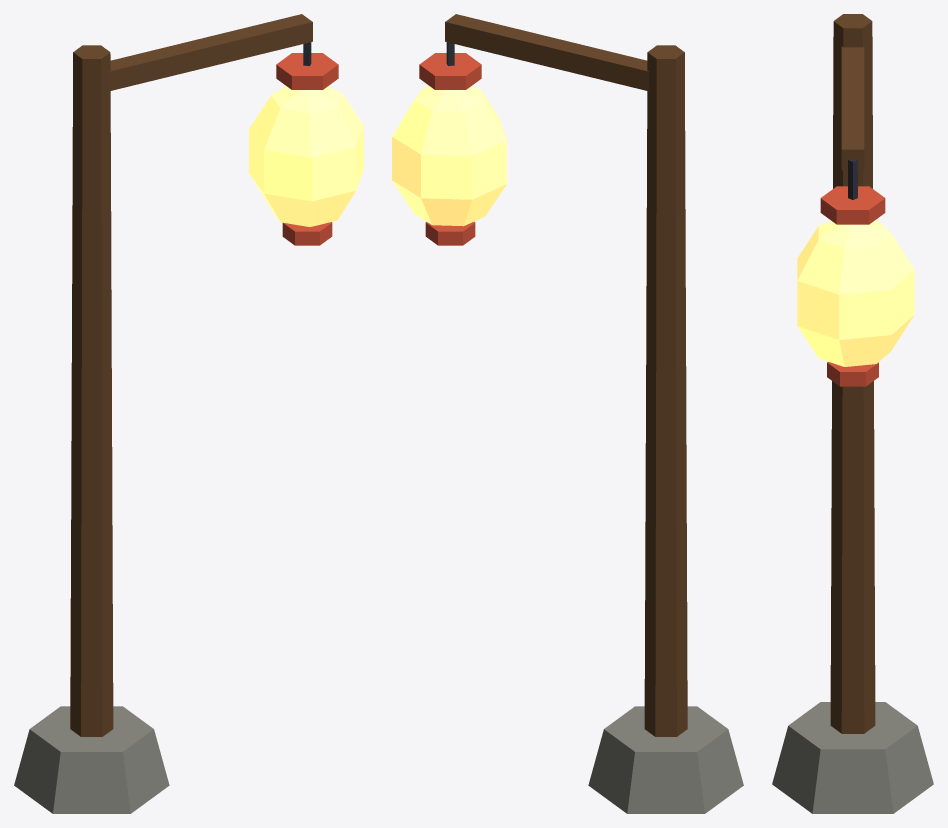
Rendered from night_lantern_pole.glb.
The picture shows the model from 3 angles, left to right: view 1: azimuth 30°, elevation 25°; view 2: azimuth 150°, elevation 25°; view 3: azimuth 270°, elevation 25°; orthographic projection. The views are drawn at different scales.
Visible parts, largest first — view 1: night_lantern_pole; view 2: night_lantern_pole; view 3: night_lantern_pole.
Boxes of the visible parts, left/top/right/bottom form: night_lantern_pole: left=14, top=14, right=363, bottom=813; night_lantern_pole: left=392, top=14, right=743, bottom=813; night_lantern_pole: left=772, top=14, right=933, bottom=813.
Bounding box in the file's own units: 1.2 × 2.6 × 0.5.
